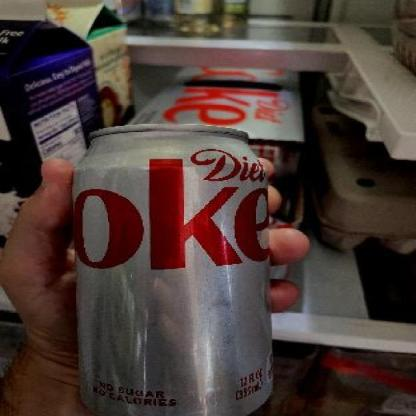alumunium_can: (65, 119, 273, 416)
